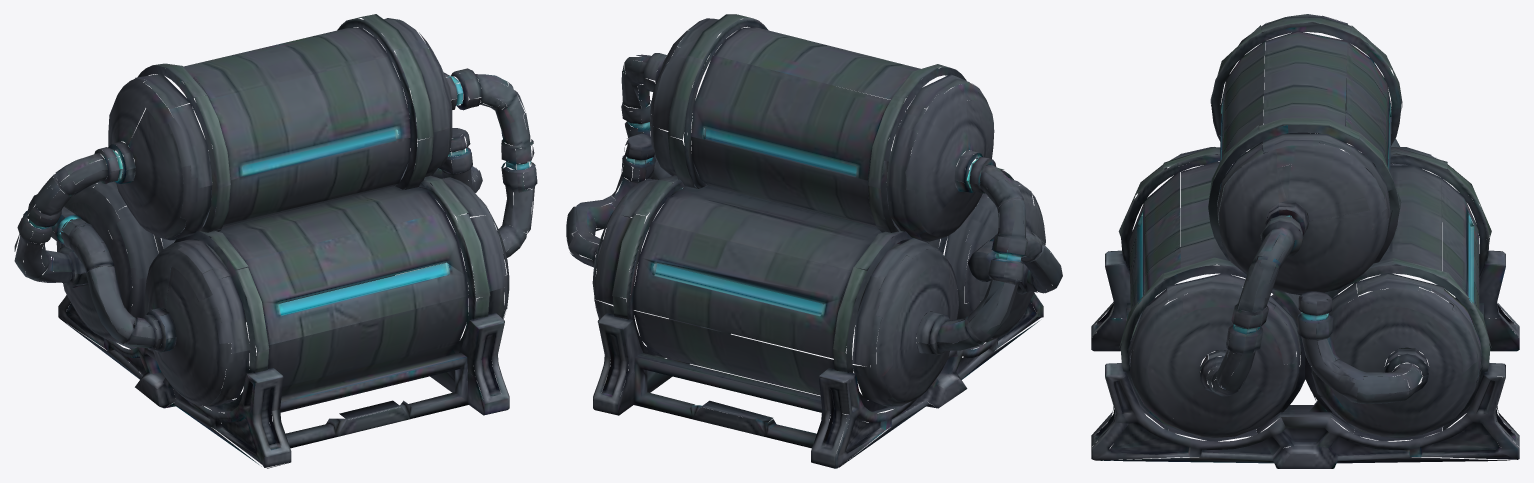
The model's file is moon_alien_tanks.glb.
3 views of the same model, side by side, from view 1: azimuth 30°, elevation 25°; view 2: azimuth 150°, elevation 25°; view 3: azimuth 270°, elevation 25° (orthographic). The views are drawn at different scales.
Visible parts, largest first — view 1: moon_alien_tanks; view 2: moon_alien_tanks; view 3: moon_alien_tanks.
Boxes of the visible parts, x1,y1,x2,y2 form: moon_alien_tanks: (14, 14, 537, 468); moon_alien_tanks: (566, 14, 1062, 468); moon_alien_tanks: (1091, 14, 1519, 468).
Size of the model in its own units: 10.02 by 6.74 by 7.91.
Materials: 1 (1 with a texture image).
